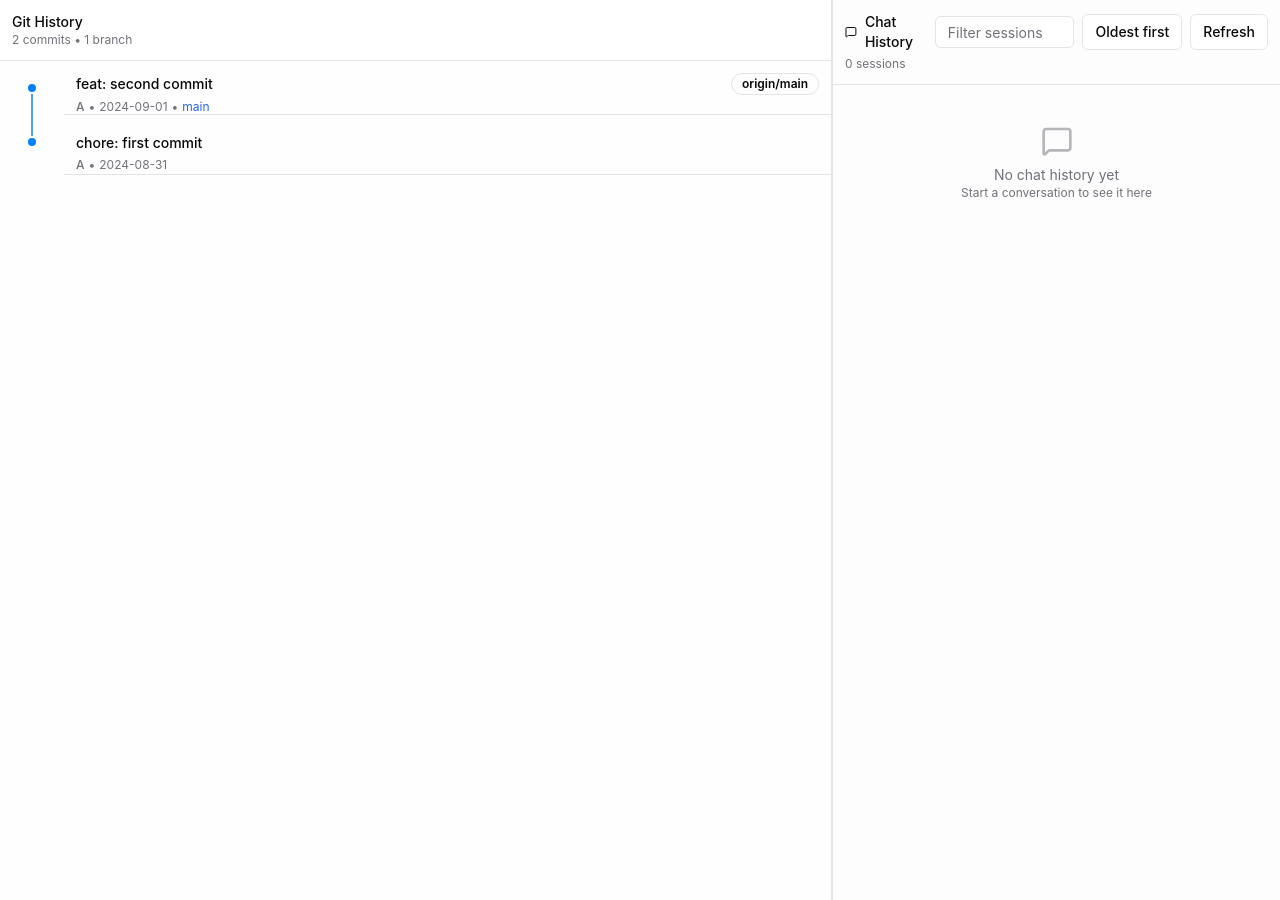
Test case: HistoryView diff dialog › opens a dialog with DiffViewer when a commit is clicked and closes it
# Click a commit row (by subject text)
Click the text "feat: second commit" at (144, 84), box [76,75,213,92]
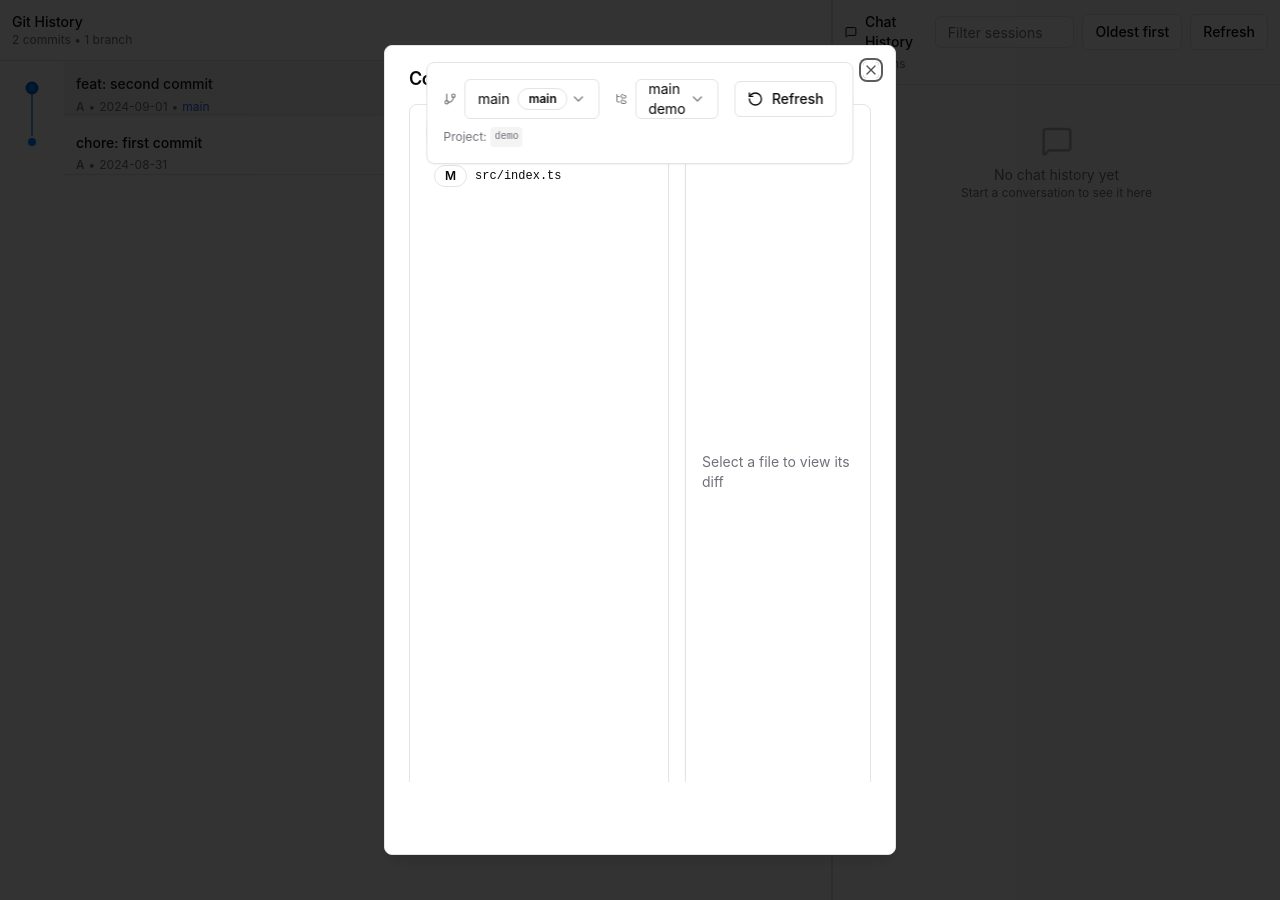
Now the text "Changed Files" is shown, box [450,121,559,145]
Now the text "Select a file to view its diff" is shown, box [702,453,850,490]
# Click a file to load diffs
Click the button "M src/index.ts" at (539, 176), box [426,157,652,195]
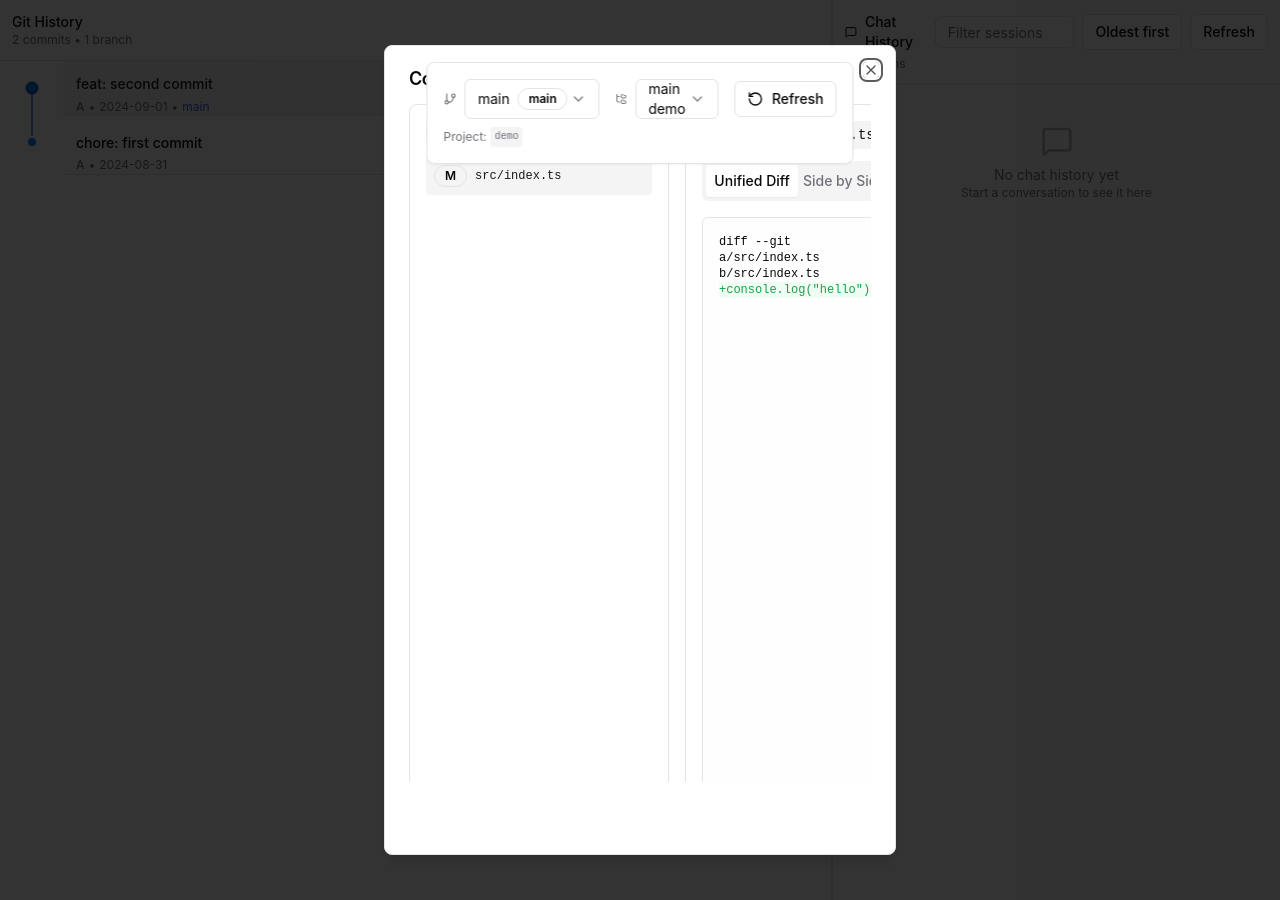
Now the tab "Unified Diff" is shown, box [706,165,798,197]
# Close via the dialog close button (has accessible name 'Close')
Click the button named "close" at (871, 70), box [863,62,879,78]
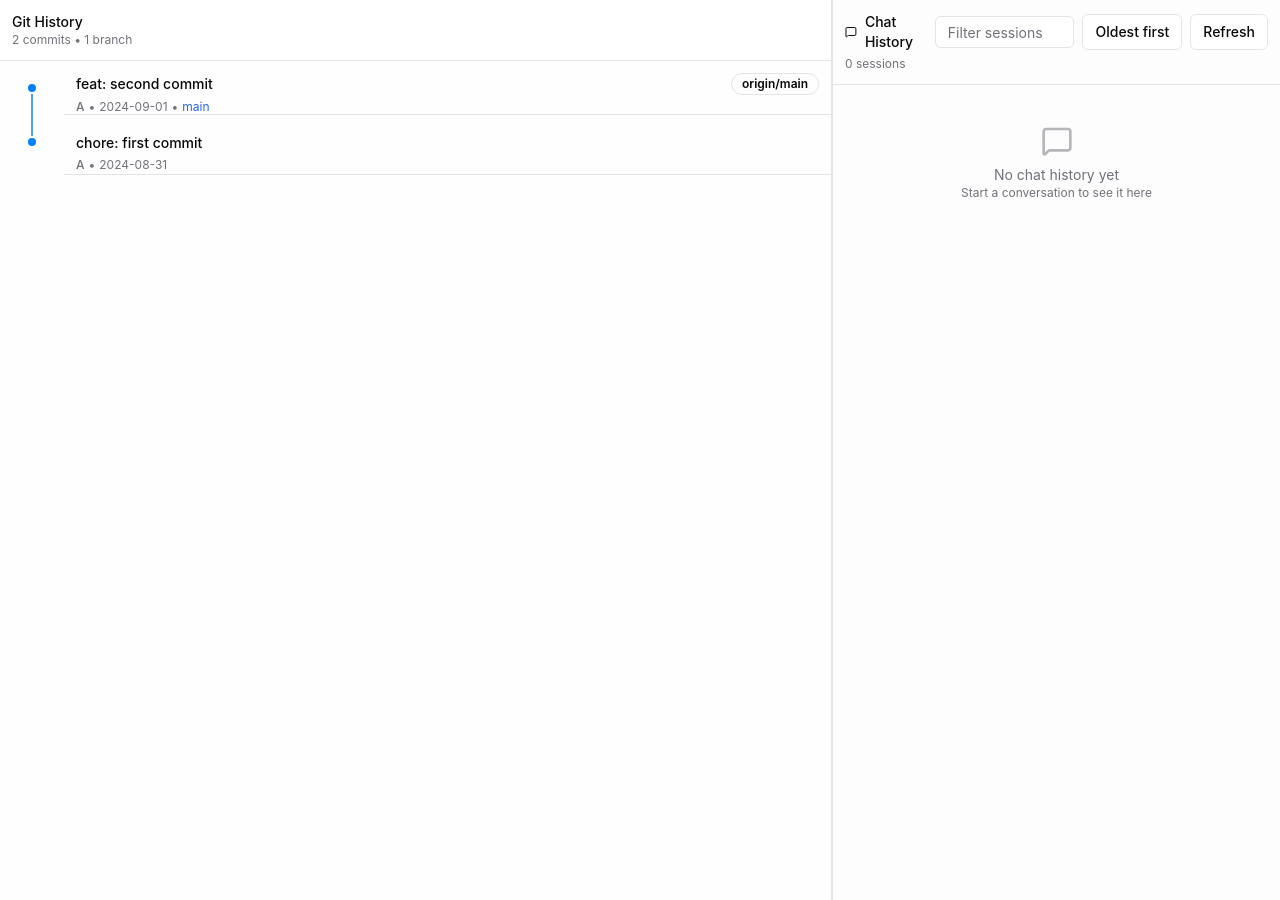
Now the text "Changed Files" is gone
